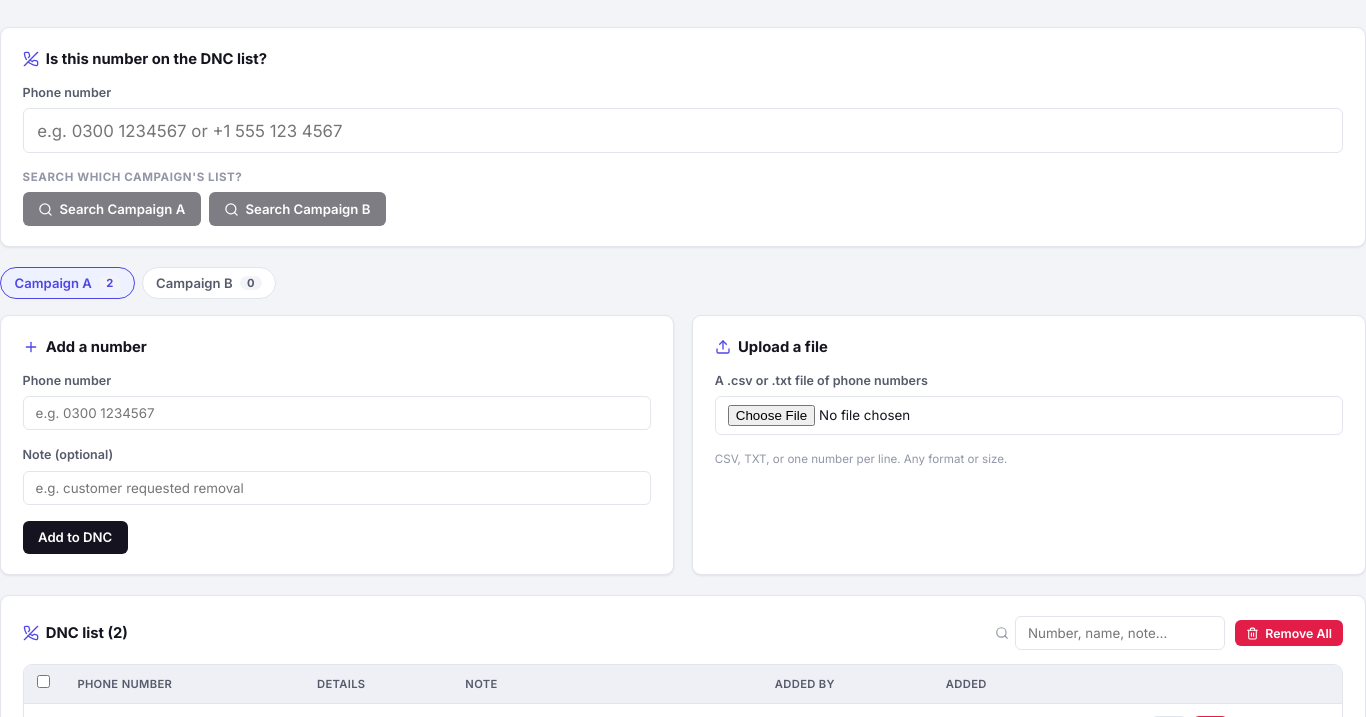
Test case: DncManagement › batch selection and delete › "select all" checks every loaded row, and unchecking it clears them
Click the checkbox named "Select all loaded numbers".
click(44, 682)  # box [37, 675, 50, 688]
(page scrolled)
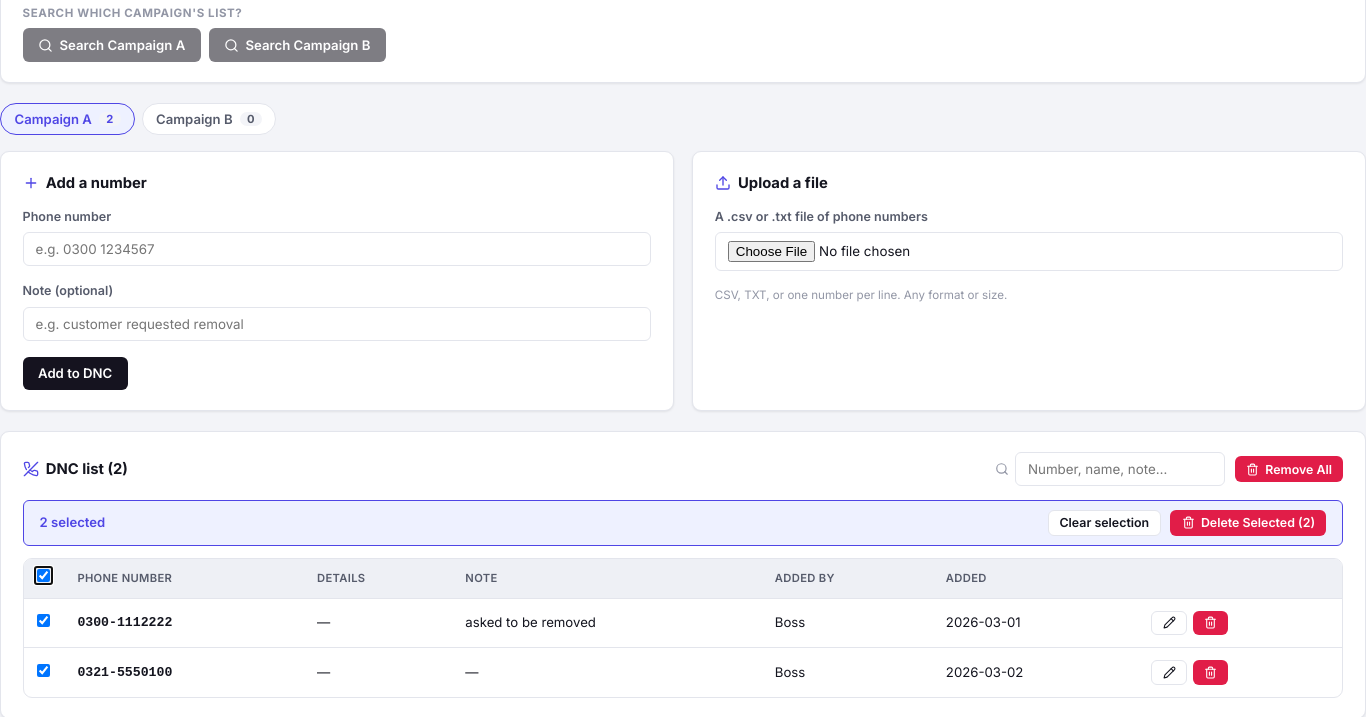
Result: the checkbox named "Select 0300-1112222" is checked at [37, 614, 50, 627]
Result: the checkbox named "Select 0321-5550100" is checked at [37, 664, 50, 676]
Result: the text "2 selected" is shown at [40, 513, 105, 533]
Click the checkbox named "Select all loaded numbers".
click(44, 576)  # box [37, 569, 50, 582]
(page scrolled)
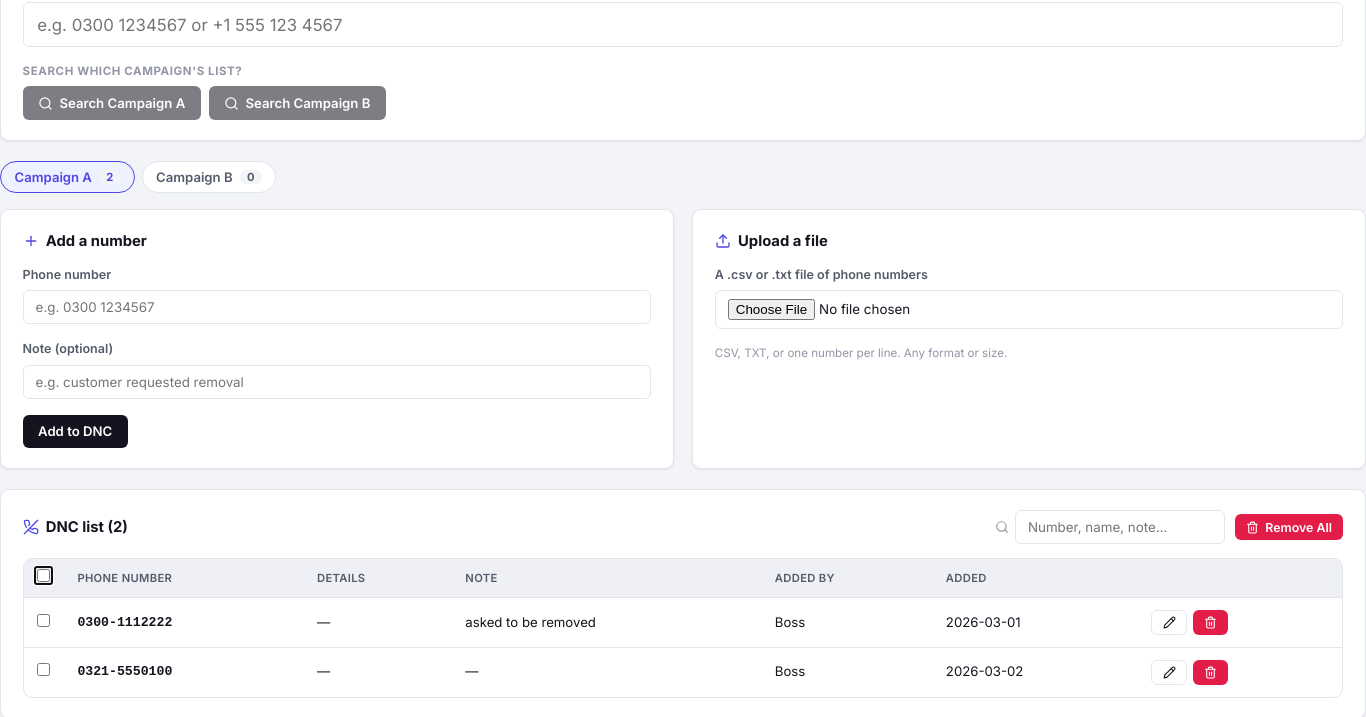
Result: the checkbox named "Select 0300-1112222" is not checked at [37, 614, 50, 627]
Result: the text "selected" is gone
